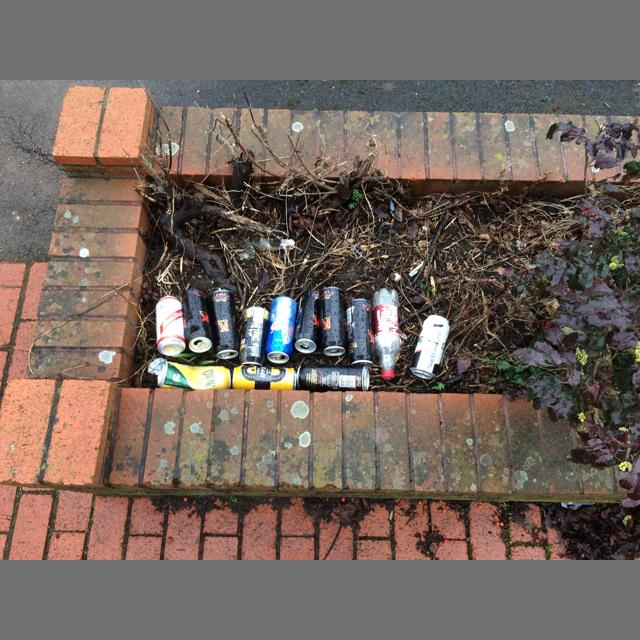litter: (373, 287, 401, 381), (410, 315, 450, 379), (209, 290, 240, 359), (296, 364, 369, 393), (158, 361, 231, 390), (346, 299, 376, 369), (266, 297, 297, 364), (183, 287, 213, 353), (320, 286, 347, 356), (239, 307, 270, 366), (156, 296, 186, 355), (293, 290, 321, 353), (232, 365, 296, 391), (148, 358, 166, 375), (240, 240, 255, 258), (253, 238, 277, 249), (409, 259, 424, 276), (279, 238, 295, 246), (197, 342, 208, 351), (382, 373, 395, 380), (389, 510, 394, 521), (272, 356, 280, 360), (303, 343, 309, 348), (222, 353, 229, 357), (331, 350, 337, 353)
